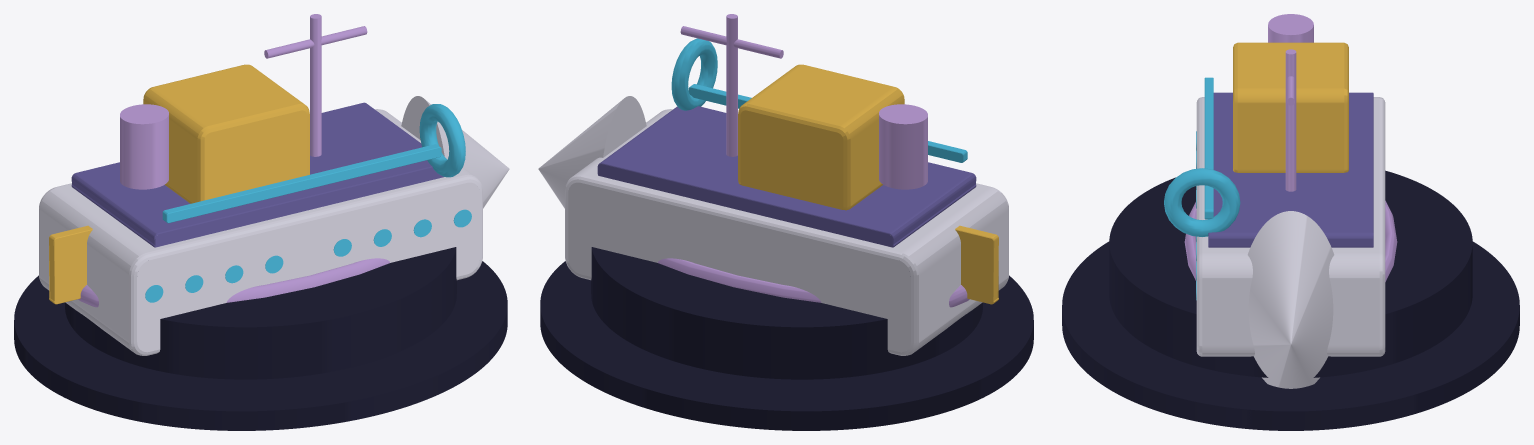
The model's file is 1151_海底两万里_船长房间.glb.
3 renders of one model, left to right at view 1: azimuth 30°, elevation 25°; view 2: azimuth 150°, elevation 25°; view 3: azimuth 270°, elevation 25°, orthographic.
Parts seen in each view (by area): view 1: card_1151; view 2: card_1151; view 3: card_1151.
Boxes of the visible parts, <box> form: card_1151: <box>14,14,509,430</box>; card_1151: <box>538,14,1033,430</box>; card_1151: <box>1062,14,1519,430</box>.
Size of the model in its own units: 1.62 by 1 by 1.38.
